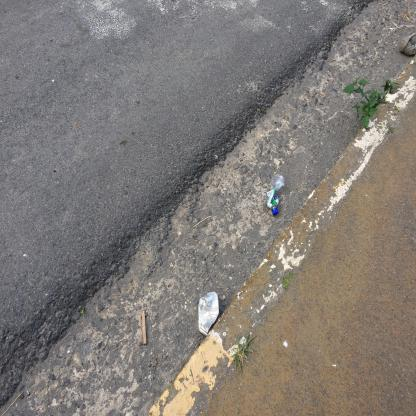metal: (198, 292, 219, 336)
plastik: (266, 174, 284, 215)
